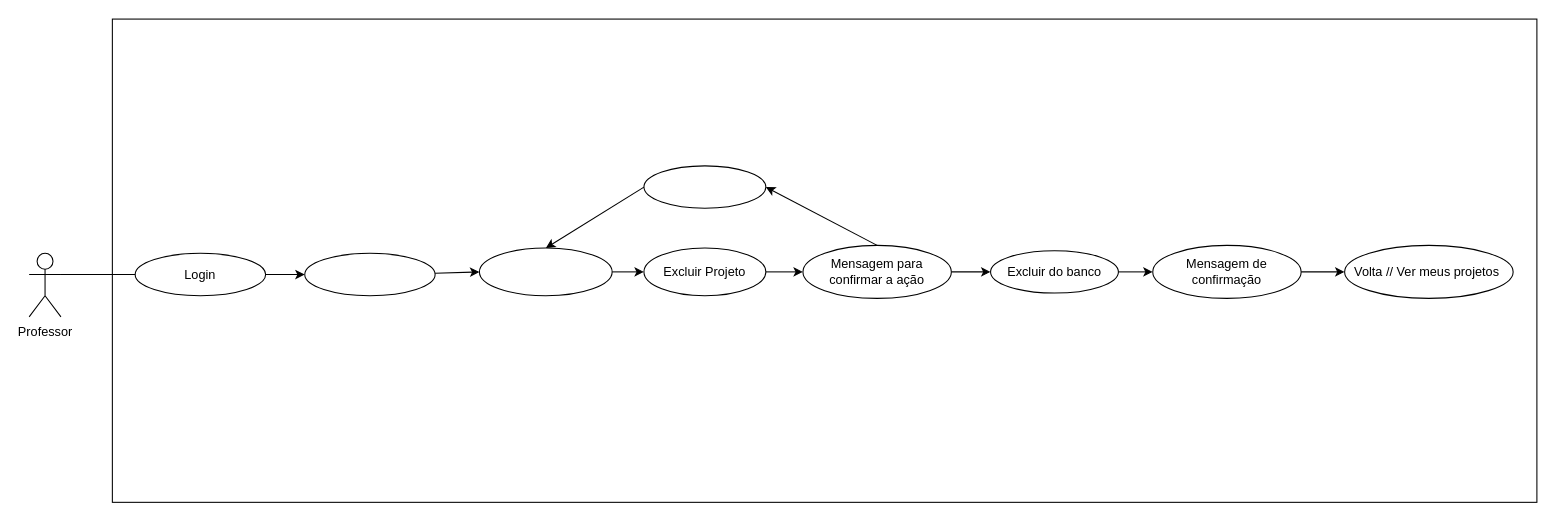
Image size: 1556x520. Some labels were removed from this diagram. The box of each missing label's shape, as (x1, y1, x2, y2) in pixels:
Ação negada: (643, 165, 766, 208)
Selecionar Projeto: (478, 247, 612, 296)
Ver meus Projetos: (304, 252, 435, 296)
